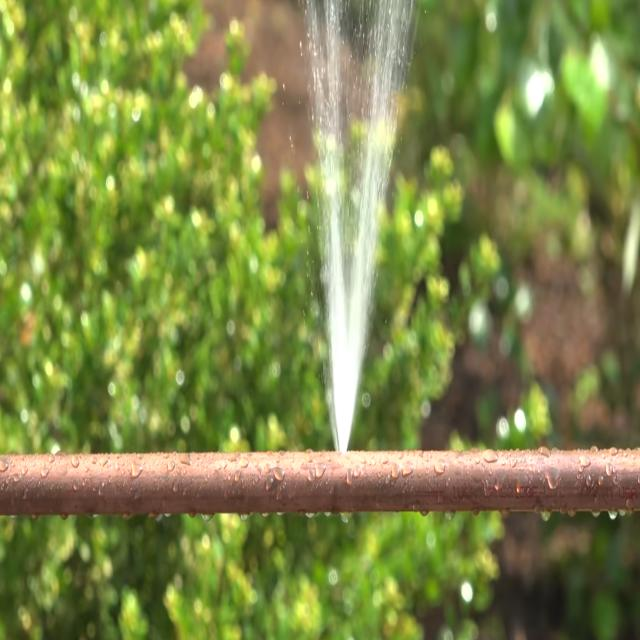leak: (306, 0, 412, 451)
